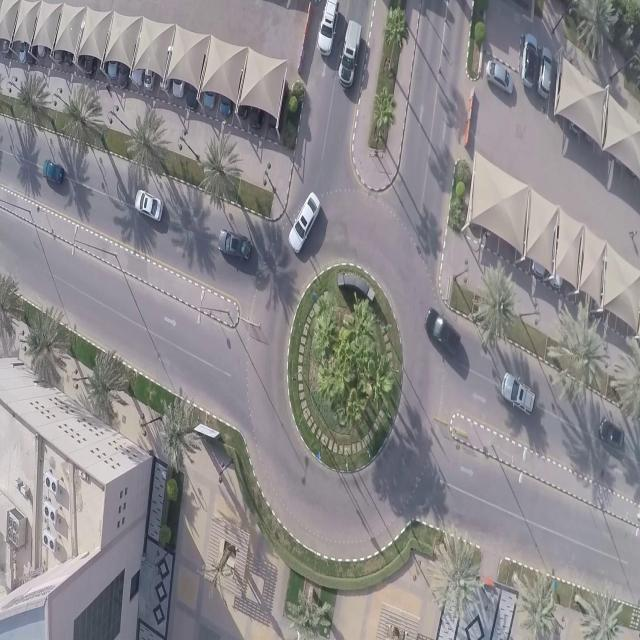car: (289, 192, 323, 255), (426, 308, 462, 362), (337, 19, 364, 89), (501, 372, 536, 417), (316, 0, 340, 57), (486, 57, 516, 101), (221, 229, 252, 269), (135, 189, 163, 224), (248, 69, 264, 129), (42, 152, 65, 192), (522, 30, 537, 90), (598, 416, 626, 448), (536, 46, 553, 97), (186, 51, 200, 111), (204, 56, 217, 109), (144, 40, 157, 93), (173, 48, 186, 100), (132, 35, 145, 87), (550, 238, 563, 288), (220, 67, 233, 117), (532, 232, 546, 278), (84, 27, 97, 76), (119, 36, 131, 89), (108, 32, 119, 78), (238, 72, 248, 118), (26, 28, 37, 66), (65, 28, 75, 66), (54, 25, 64, 63), (2, 22, 12, 56), (38, 18, 46, 59), (18, 22, 26, 63)
